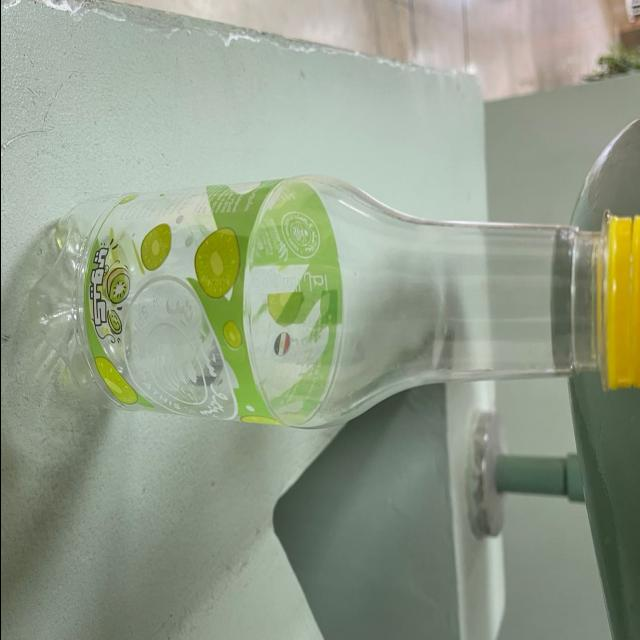plastic: (74, 174, 640, 430)
